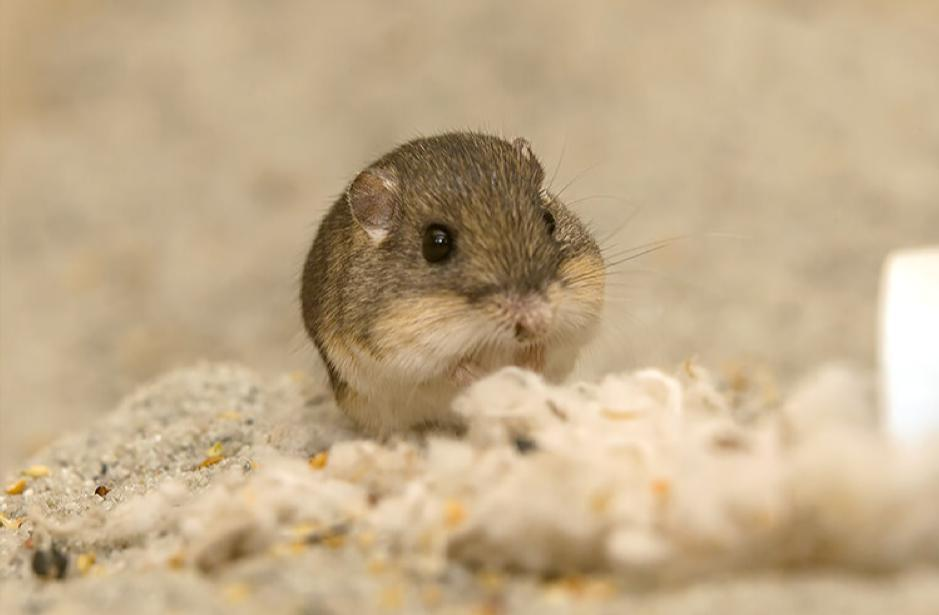rat: (300, 131, 604, 440)
